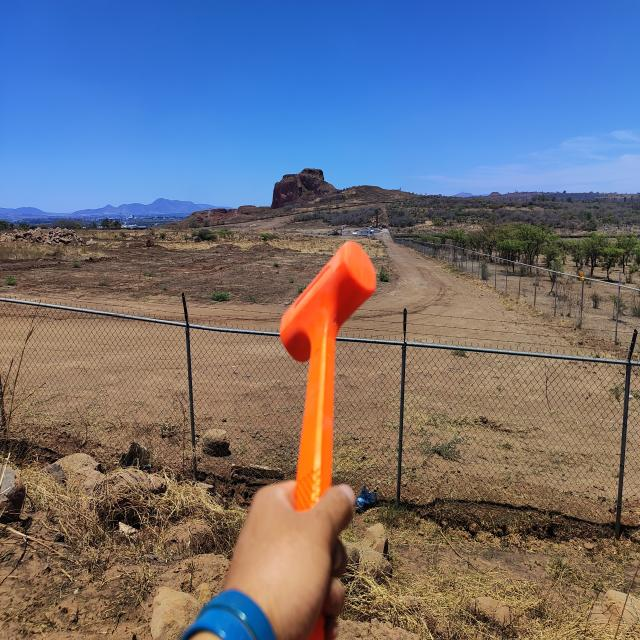Orange_hammer: (274, 235, 382, 532)
